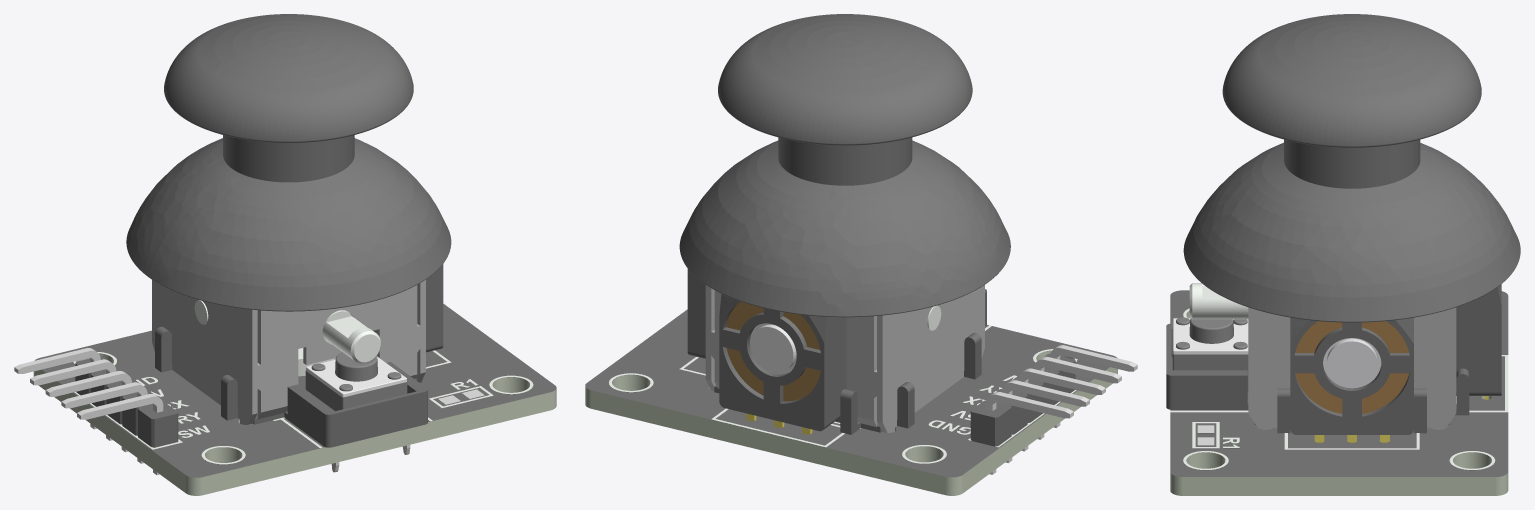
Rendered from joystick_module.glb.
The picture shows the model from 3 angles, left to right: view 1: azimuth 30°, elevation 25°; view 2: azimuth 150°, elevation 25°; view 3: azimuth 270°, elevation 25°; orthographic projection. The views are drawn at different scales.
Visible parts, largest first — view 1: thumbstick, base_plastic, Node6, Node1, Node5, Node3, Node11, Node12; view 2: thumbstick, base_plastic, Node6, Node1, Node5, Node8, Node3, Node9; view 3: thumbstick, base_plastic, Node6, Node1, Node3, Node8, Node11, Node9, Node12.
Part boxes in pixels (<box>): thumbstick: <box>126,14,451,311</box>; base_plastic: <box>34,264,556,477</box>; Node6: <box>152,279,425,424</box>; Node1: <box>33,353,556,495</box>; Node5: <box>14,348,163,475</box>; Node3: <box>73,300,533,464</box>; Node11: <box>305,352,407,411</box>; Node12: <box>306,356,406,397</box>; thumbstick: <box>679,14,1010,317</box>; base_plastic: <box>585,269,1117,477</box>; Node6: <box>705,285,984,432</box>; Node1: <box>585,350,1117,495</box>; Node5: <box>986,345,1137,474</box>; Node8: <box>726,301,820,401</box>; Node3: <box>609,305,1077,463</box>; Node9: <box>750,323,796,374</box>; thumbstick: <box>1183,14,1520,322</box>; base_plastic: <box>1166,284,1508,476</box>; Node6: <box>1248,307,1456,429</box>; Node1: <box>1170,311,1508,495</box>; Node3: <box>1170,283,1508,469</box>; Node8: <box>1295,321,1409,413</box>; Node11: <box>1172,317,1248,391</box>; Node9: <box>1323,338,1381,388</box>; Node12: <box>1173,318,1248,354</box>.
Bounding box in the file's own units: 39.8 × 33.3 × 27.26.
